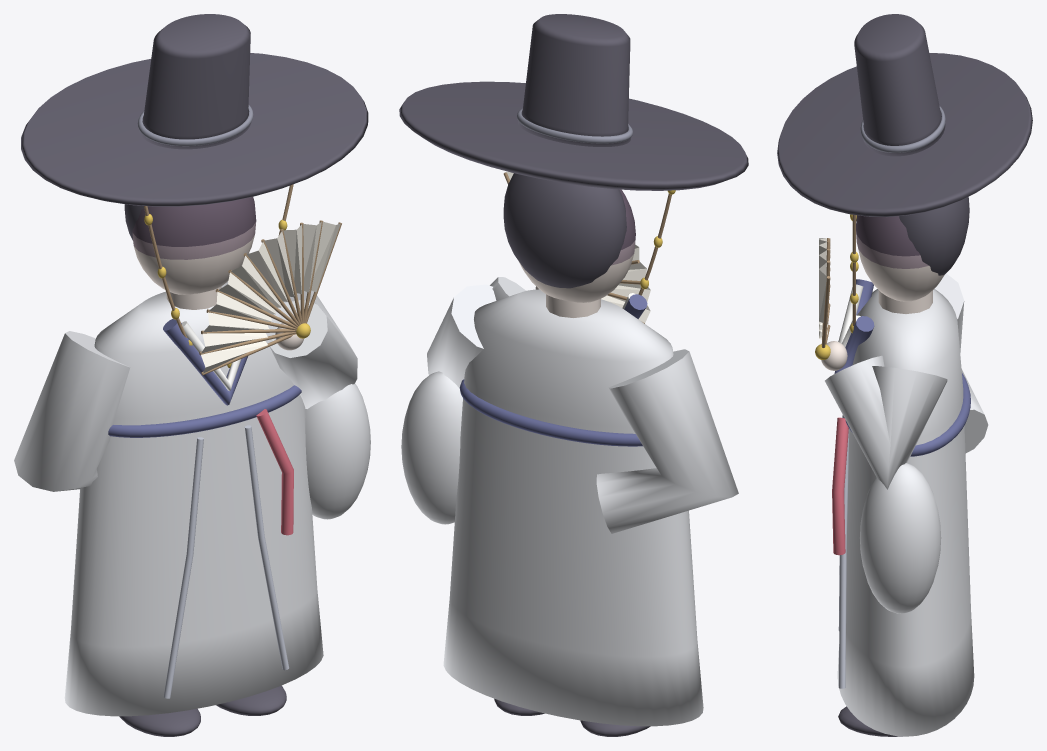
Rendered from conch_jeonwoochi_a_behind_0_0.glb.
The picture shows the model from 3 angles, left to right: view 1: azimuth 30°, elevation 25°; view 2: azimuth 150°, elevation 25°; view 3: azimuth 270°, elevation 25°; orthographic projection.
Size of the model in its own units: 28.25 by 55.23 by 18.85.
